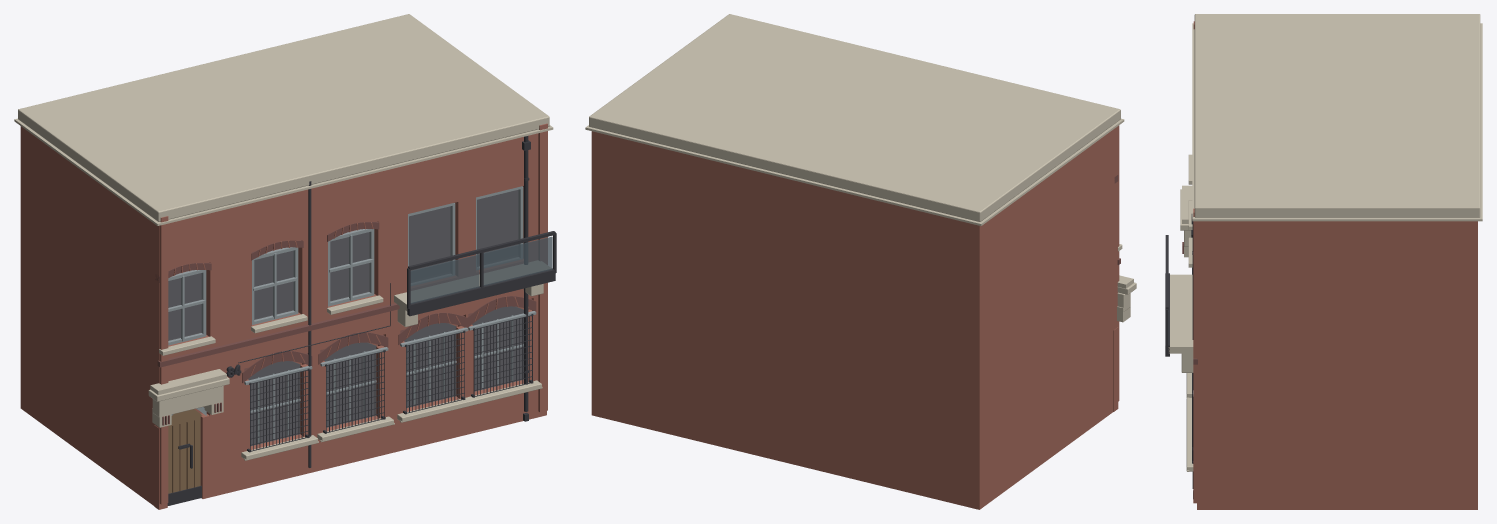
File: come_through_lab.glb
The picture shows the model from 3 angles, left to right: view 1: azimuth 30°, elevation 25°; view 2: azimuth 150°, elevation 25°; view 3: azimuth 270°, elevation 25°; orthographic projection.
Visible parts, largest first — view 1: CTL_Parapet_Cap, CTL_BuildingShell_Rear, CTL_Facade_UpperHead_01, CTL_Facade_Base_02, CTL_Facade_GroundHead_01, CTL_Facade_UpperOpenings_02, CTL_WindowGlass_Ground03, CTL_WindowGlass_Ground04, CTL_WindowGlass_Ground02, CTL_WindowGlass_Ground01, CTL_BalconyDoor_01_Glass, CTL_BalconyDoor_02_Glass (+37 smaller); view 2: CTL_BuildingShell_Rear, CTL_Parapet_Cap, CTL_Parapet_DripLip; view 3: CTL_BuildingShell_Rear, CTL_Parapet_Cap, CTL_Parapet_DripLip, CTL_Balcony_Slab, CTL_Facade_GroundOpenings_06, CTL_Facade_UpperOpenings_06, CTL_EndPier_Right, CTL_Facade_UpperHead_01, CTL_Facade_Base_02, CTL_Facade_GroundHead_01, CTL_Downpipe_Body.
Part boxes in pixels (x1,y1,x2,y2): CTL_Parapet_Cap: [18, 14, 549, 221]; CTL_BuildingShell_Rear: [20, 126, 523, 503]; CTL_Facade_UpperHead_01: [151, 133, 538, 274]; CTL_Facade_Base_02: [210, 379, 546, 496]; CTL_Facade_GroundHead_01: [151, 288, 538, 384]; CTL_Facade_UpperOpenings_02: [206, 252, 251, 336]; CTL_WindowGlass_Ground03: [404, 323, 456, 407]; CTL_WindowGlass_Ground04: [472, 306, 523, 391]; CTL_WindowGlass_Ground02: [324, 342, 376, 427]; CTL_WindowGlass_Ground01: [248, 361, 300, 445]; CTL_BalconyDoor_01_Glass: [409, 206, 450, 282]; CTL_BalconyDoor_02_Glass: [477, 189, 518, 266]; CTL_BuildingShell_Rear: [591, 131, 1110, 509]; CTL_Parapet_Cap: [589, 14, 1120, 221]; CTL_Parapet_DripLip: [585, 118, 1124, 225]; CTL_BuildingShell_Rear: [1213, 221, 1477, 509]; CTL_Parapet_Cap: [1194, 14, 1480, 217]; CTL_Parapet_DripLip: [1192, 23, 1482, 221]; CTL_Balcony_Slab: [1168, 274, 1193, 353]; CTL_Facade_GroundOpenings_06: [1197, 387, 1212, 475]; CTL_Facade_UpperOpenings_06: [1197, 271, 1212, 347]; CTL_EndPier_Right: [1193, 208, 1196, 503]; CTL_Facade_UpperHead_01: [1197, 221, 1212, 271]; CTL_Facade_Base_02: [1197, 475, 1212, 509]; CTL_Facade_GroundHead_01: [1197, 361, 1212, 387]; CTL_Downpipe_Body: [1192, 224, 1193, 488].
Bounding box in the file's own units: 10.06 × 7.15 × 6.78.
